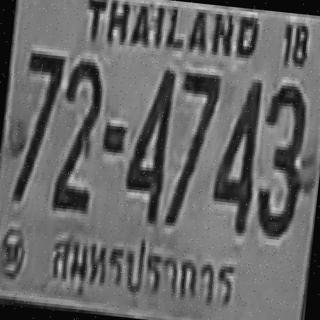N02: (51, 55, 104, 210)
N03: (253, 79, 310, 234)
N04: (208, 73, 262, 230), (122, 62, 174, 220)
N07: (164, 67, 220, 224), (13, 50, 65, 201), (169, 69, 220, 209)
P57: (38, 218, 246, 320)
